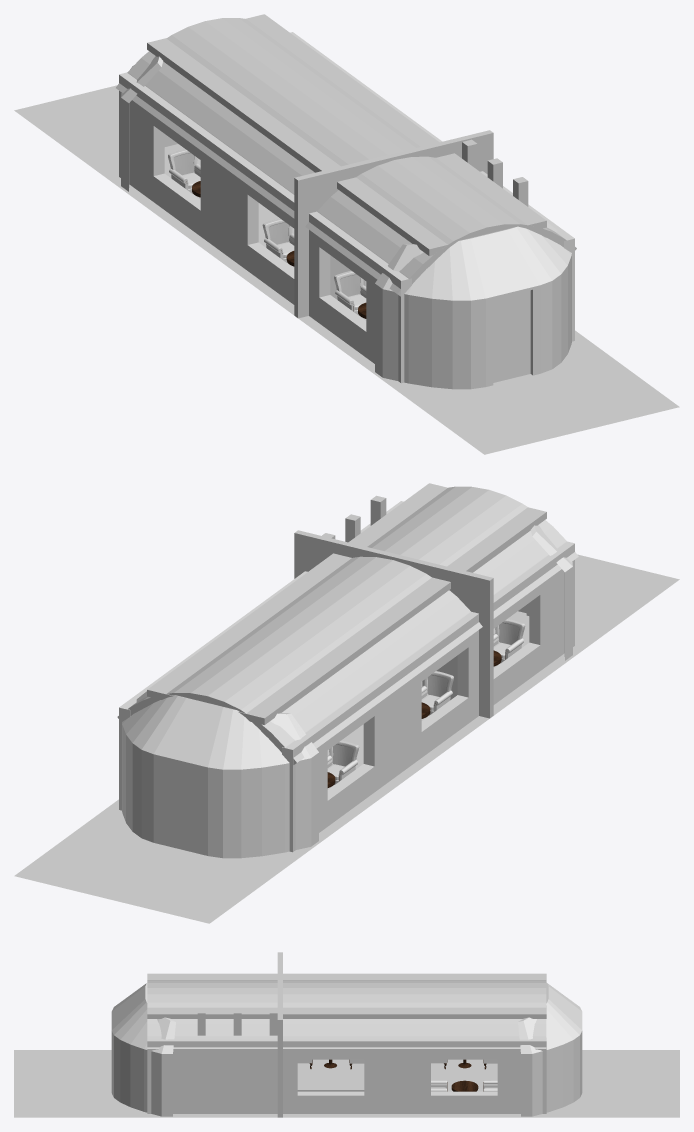
File: 3ms-zugabteil2.fbx
3 renders of one model, top to bottom at view 1: azimuth 30°, elevation 25°; view 2: azimuth 150°, elevation 25°; view 3: azimuth 270°, elevation 25°, orthographic. The views are drawn at different scales.
Parts seen in each view (by area): view 1: Wand_vorne, Boden_vorne, Dach_vorne, Dach_hinten, Dach, Wand_links_fenster_1.001, Wand_links_fenster_1, Wand_links_fenster_1.002, Abtrennung_Tür, Boden_hinten, Dach_Mitte_vorne, Dach_Mitte_hinten (+11 smaller); view 2: Wand_hinten, Boden_hinten, Dach_hinten, Dach, Dach_vorne, Wand_links_fenster_1, Wand_links_fenster_1.001, Wand_links_fenster_1.002, Abtrennung_Tür, Boden_vorne, Dach_Mitte_hinten, Dach_Mitte (+10 smaller); view 3: Wand_rechts, Wand_rechts_fenster_1, Boden_vorne, Boden_hinten, Dach, Dach_hinten, Wand_rechts_fenster_1.001, Dach_vorne, Wand_hinten, Wand_vorne, Dach_Mitte_hinten, Dach_Mitte (+8 smaller).
Part boxes in pixels (bbox=[...]): Wand_vorne: bbox=[375, 222, 571, 389]; Boden_vorne: bbox=[391, 338, 679, 454]; Dach_vorne: bbox=[305, 156, 576, 296]; Dach_hinten: bbox=[116, 18, 339, 156]; Dach: bbox=[209, 86, 420, 218]; Wand_links_fenster_1.001: bbox=[119, 72, 220, 245]; Wand_links_fenster_1: bbox=[213, 141, 294, 304]; Wand_links_fenster_1.002: bbox=[309, 211, 411, 383]; Abtrennung_Tür: bbox=[294, 130, 493, 318]; Boden_hinten: bbox=[14, 85, 184, 179]; Dach_Mitte_vorne: bbox=[337, 153, 546, 255]; Dach_Mitte_hinten: bbox=[147, 14, 357, 118]; Wand_hinten: bbox=[122, 691, 318, 858]; Boden_hinten: bbox=[14, 807, 302, 923]; Dach_hinten: bbox=[117, 624, 390, 764]; Dach: bbox=[260, 556, 482, 693]; Dach_vorne: bbox=[367, 486, 578, 618]; Wand_links_fenster_1: bbox=[379, 611, 478, 782]; Wand_links_fenster_1.001: bbox=[282, 679, 386, 852]; Wand_links_fenster_1.002: bbox=[493, 541, 574, 704]; Abtrennung_Tür: bbox=[294, 530, 493, 718]; Boden_vorne: bbox=[507, 554, 679, 648]; Dach_Mitte_hinten: bbox=[147, 621, 358, 724]; Dach_Mitte: bbox=[241, 553, 450, 655]; Wand_rechts: bbox=[147, 1038, 277, 1113]; Wand_rechts_fenster_1: bbox=[283, 1038, 413, 1113]; Boden_vorne: bbox=[14, 1050, 147, 1117]; Boden_hinten: bbox=[546, 1050, 679, 1117]; Dach: bbox=[283, 980, 413, 1049]; Dach_hinten: bbox=[413, 980, 546, 1049]; Wand_rechts_fenster_1.001: bbox=[413, 1038, 546, 1113]; Dach_vorne: bbox=[147, 980, 277, 1049]; Wand_hinten: bbox=[518, 982, 582, 1116]; Wand_vorne: bbox=[111, 983, 175, 1116]; Dach_Mitte_hinten: bbox=[413, 973, 546, 1018]; Dach_Mitte: bbox=[283, 973, 413, 1018].
Bounding box in the file's own units: 600 × 404 × 2500.
